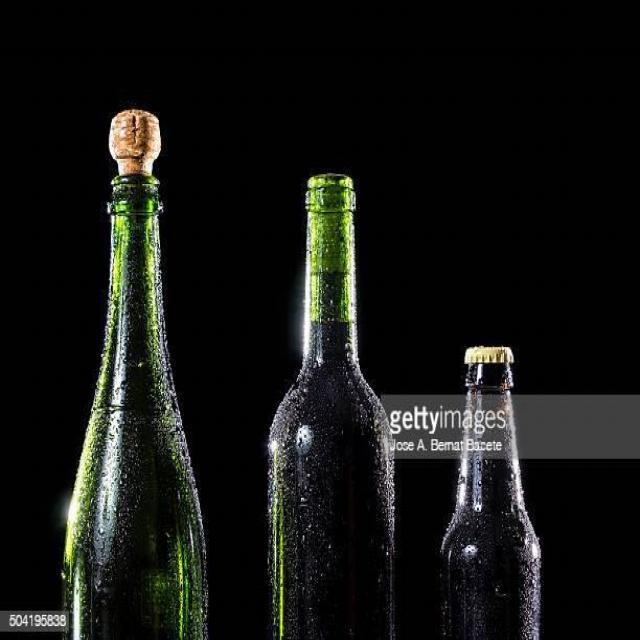glass: (60, 97, 214, 640), (271, 153, 401, 640), (432, 323, 550, 640)
